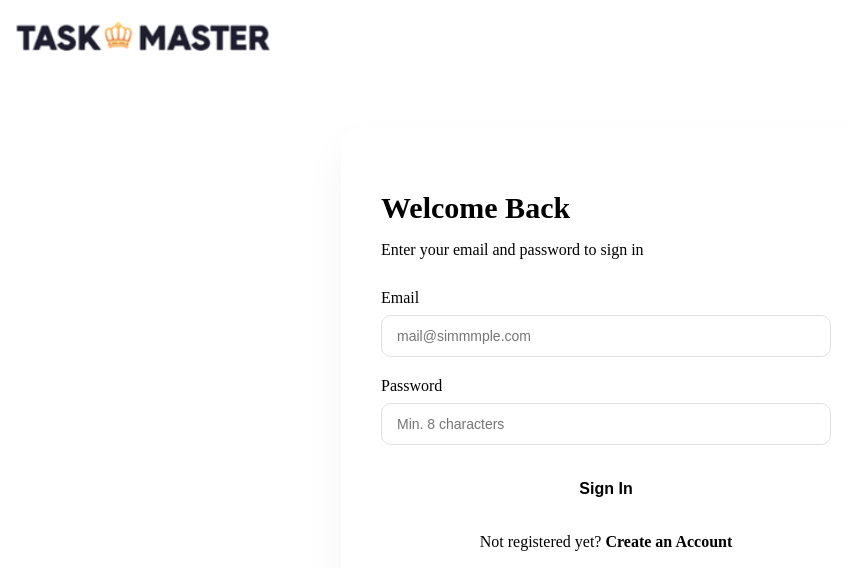
Scenario: LoginPage › handles successful login
The image size is (848, 568).
Type "test@example.com" into the field with placeholder "mail@simmmple.com". click: [606, 336]
box: left=381, top=315, right=831, bottom=357
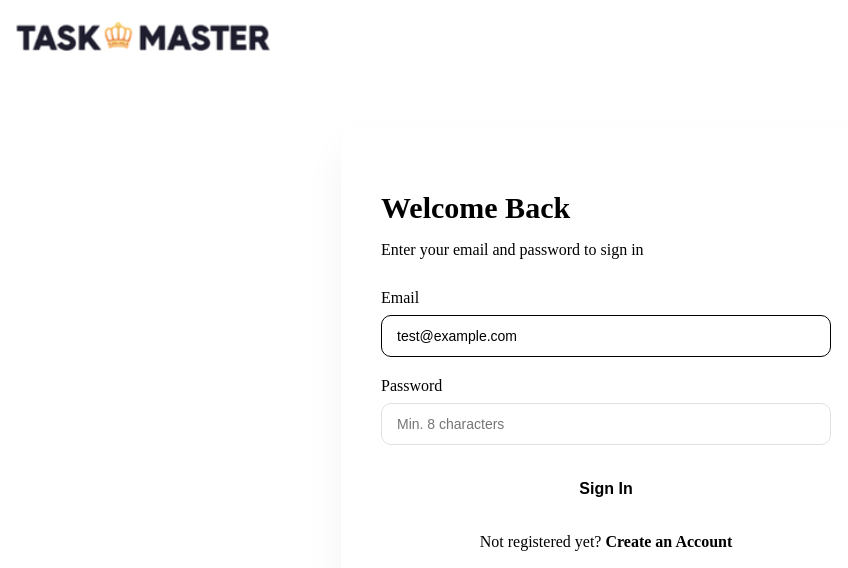
Type "password123" into the password field with placeholder "Min. 8 characters". click: [606, 424]
box: left=381, top=403, right=831, bottom=445
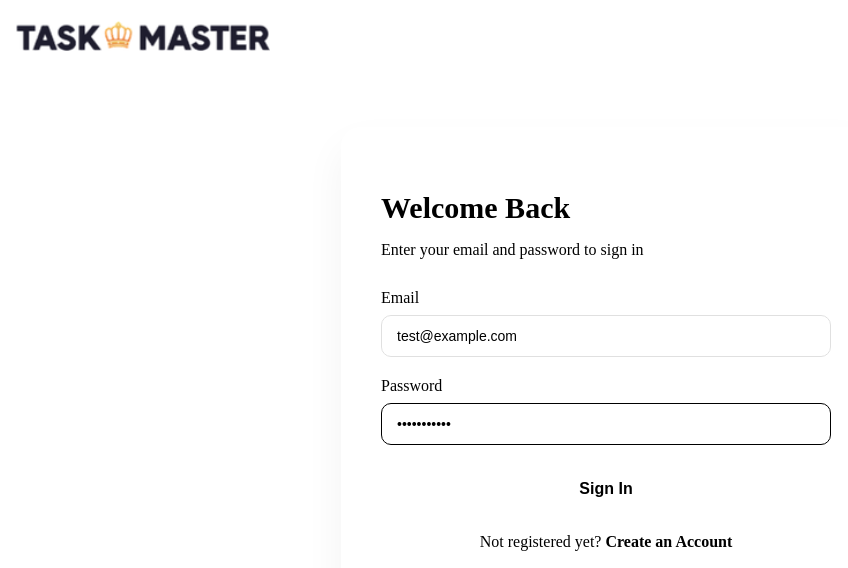
Click the submit button. click: [606, 489]
box: left=381, top=465, right=831, bottom=513
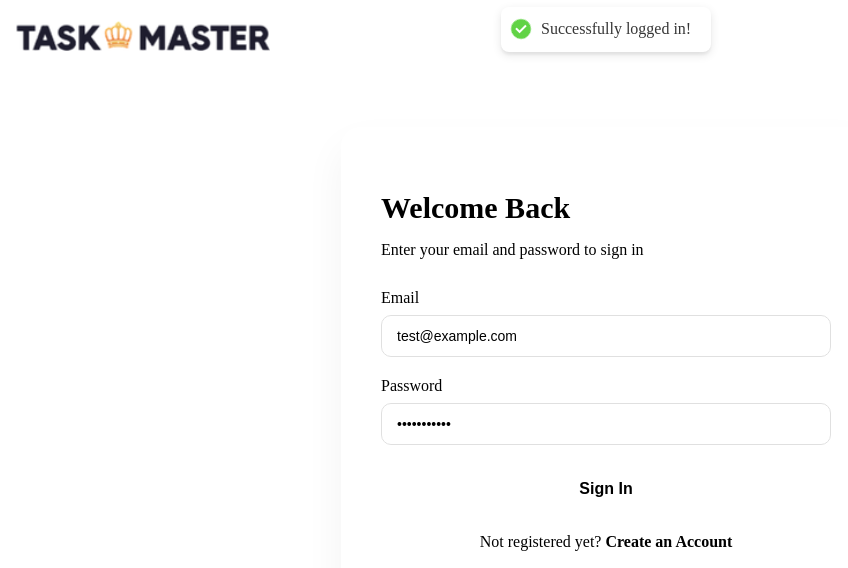
Check: the text "Successfully logged in!" is shown, box left=541, top=19, right=691, bottom=40
